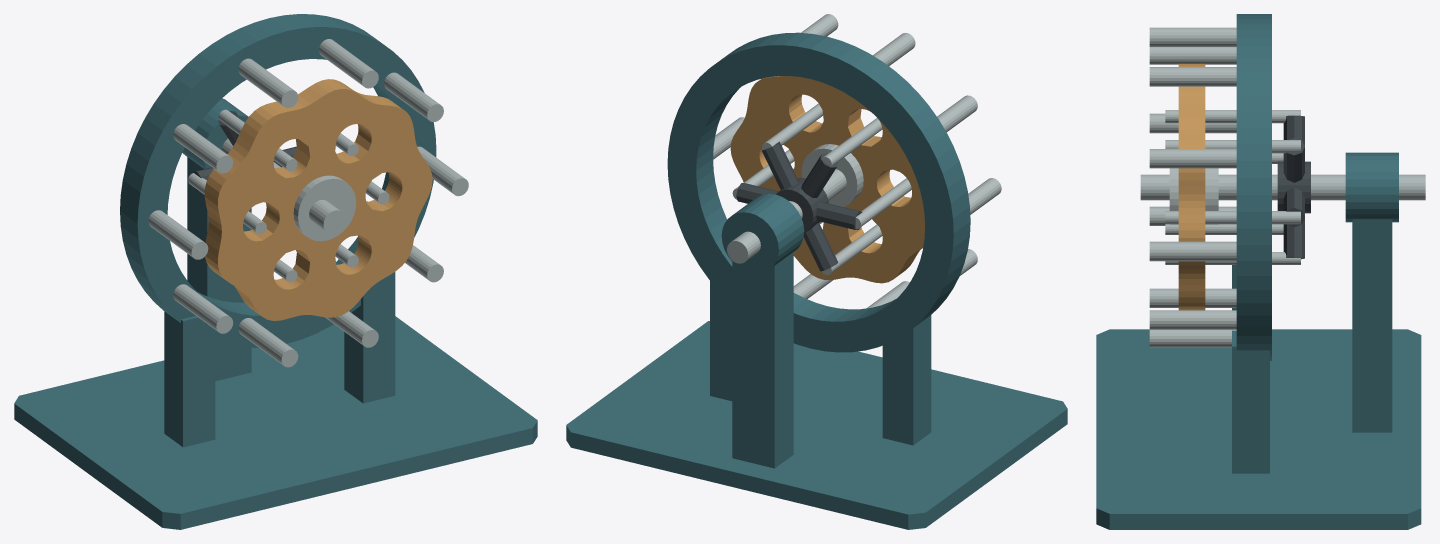
3 renders of one model, left to right at view 1: azimuth 30°, elevation 25°; view 2: azimuth 150°, elevation 25°; view 3: azimuth 270°, elevation 25°, orthographic. The views are drawn at different scales.
Visible parts, largest first — view 1: WholeChamferedGroundPlinth, WholeNineLobePlateWithSixThroughHoles, WholeRearAnnularPinFrame, LeftWholeAnnularFrameRoot, RightWholeAnnularFrameRoot, WholeRearShaftPedestal, WholeEccentricCentralBushing, WholePerimeterPin7, WholePerimeterPin4, WholePerimeterPin5, WholePerimeterPin3, WholePerimeterPin6 (+8 smaller); view 2: WholeChamferedGroundPlinth, WholeRearAnnularPinFrame, WholeNineLobePlateWithSixThroughHoles, WholeRearShaftPedestal, LeftWholeAnnularFrameRoot, WholeRearBoredShaftBearing, RightWholeAnnularFrameRoot, WholeEccentricCentralBushing, WholeNominalCentralShaft, WholeRearOutputCarrierHub, WholeRearCarrierArm1, WholeRearCarrierArm4 (+9 smaller); view 3: WholeChamferedGroundPlinth, WholeRearAnnularPinFrame, WholeRearShaftPedestal, WholeNineLobePlateWithSixThroughHoles, RightWholeAnnularFrameRoot, WholeRearBoredShaftBearing, WholeNominalCentralShaft, WholePerimeterPin0, WholePerimeterPin2, WholePerimeterPin9, WholePerimeterPin1, WholePerimeterPin3 (+16 smaller).
Part boxes in pixels (bbox=[...]): WholeChamferedGroundPlinth: bbox=[14, 316, 537, 529]; WholeNineLobePlateWithSixThroughHoles: bbox=[204, 79, 432, 320]; WholeRearAnnularPinFrame: bbox=[120, 14, 436, 347]; LeftWholeAnnularFrameRoot: bbox=[164, 311, 215, 447]; RightWholeAnnularFrameRoot: bbox=[344, 272, 395, 403]; WholeRearShaftPedestal: bbox=[187, 157, 251, 381]; WholeEccentricCentralBushing: bbox=[293, 175, 356, 241]; WholePerimeterPin7: bbox=[238, 318, 298, 367]; WholePerimeterPin4: bbox=[173, 124, 233, 173]; WholePerimeterPin5: bbox=[148, 210, 208, 259]; WholePerimeterPin3: bbox=[238, 58, 298, 107]; WholePerimeterPin6: bbox=[173, 284, 233, 333]; WholeChamferedGroundPlinth: bbox=[566, 321, 1067, 529]; WholeRearAnnularPinFrame: bbox=[667, 32, 970, 352]; WholeNineLobePlateWithSixThroughHoles: bbox=[730, 76, 924, 283]; WholeRearShaftPedestal: bbox=[732, 252, 793, 468]; LeftWholeAnnularFrameRoot: bbox=[882, 315, 931, 445]; WholeRearBoredShaftBearing: bbox=[721, 193, 804, 273]; RightWholeAnnularFrameRoot: bbox=[710, 281, 732, 401]; WholeEccentricCentralBushing: bbox=[801, 144, 863, 206]; WholeNominalCentralShaft: bbox=[727, 169, 846, 263]; WholeRearOutputCarrierHub: bbox=[776, 178, 828, 233]; WholeRearCarrierArm1: bbox=[762, 141, 798, 189]; WholeRearCarrierArm4: bbox=[803, 223, 838, 271]; WholeChamferedGroundPlinth: bbox=[1096, 329, 1421, 529]; WholeRearAnnularPinFrame: bbox=[1236, 14, 1271, 360]; WholeRearShaftPedestal: bbox=[1352, 219, 1392, 432]; WholeNineLobePlateWithSixThroughHoles: bbox=[1178, 63, 1205, 310]; RightWholeAnnularFrameRoot: bbox=[1232, 330, 1269, 473]; WholeRearBoredShaftBearing: bbox=[1345, 152, 1398, 222]; WholeNominalCentralShaft: bbox=[1140, 174, 1425, 200]; WholePerimeterPin0: bbox=[1149, 241, 1236, 261]; WholePerimeterPin2: bbox=[1149, 67, 1236, 86]; WholePerimeterPin9: bbox=[1149, 310, 1236, 329]; WholePerimeterPin1: bbox=[1149, 149, 1236, 168]; WholePerimeterPin3: bbox=[1149, 27, 1236, 46].
Size of the model in its own units: 0.98 by 1.01 by 0.74.
